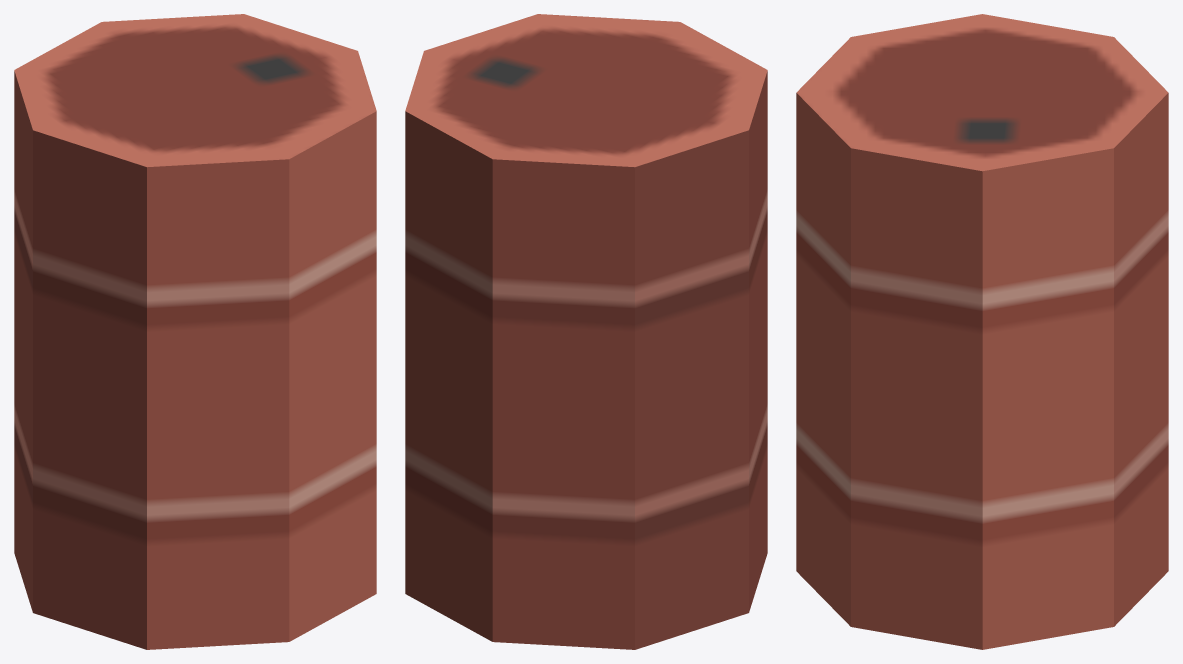
The model's file is Barrel_mts.fbx.
The picture shows the model from 3 angles, left to right: view 1: azimuth 30°, elevation 25°; view 2: azimuth 150°, elevation 25°; view 3: azimuth 270°, elevation 25°; orthographic projection.
Parts seen in each view (by area): view 1: SM_Prop_Barrel_02; view 2: SM_Prop_Barrel_02; view 3: SM_Prop_Barrel_02.
Part boxes in pixels (x1,y1,x2,y2): SM_Prop_Barrel_02: (14, 14, 376, 649); SM_Prop_Barrel_02: (405, 14, 767, 649); SM_Prop_Barrel_02: (796, 14, 1168, 649).
Size of the model in its own units: 0.9465 by 1.34 by 0.9465.
Materials: 1 (1 with a texture image).
